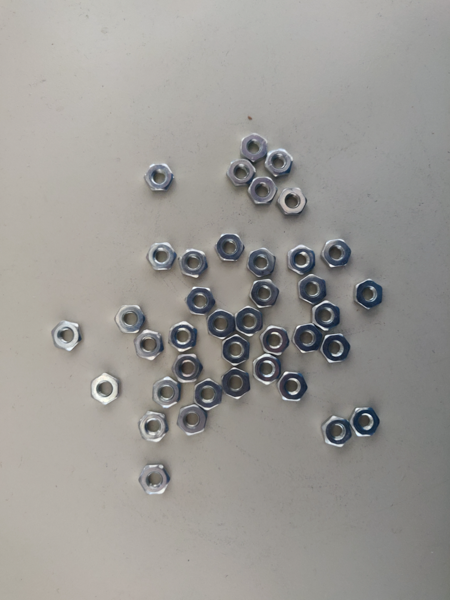nut: (192, 377, 223, 411), (350, 406, 382, 438), (321, 238, 353, 270), (139, 464, 171, 495), (323, 417, 354, 449), (252, 355, 283, 387), (277, 185, 308, 217), (53, 320, 83, 353), (261, 325, 291, 358), (176, 406, 207, 437), (91, 374, 121, 406), (115, 303, 145, 335), (135, 329, 165, 361), (169, 321, 199, 353), (173, 352, 203, 384), (152, 376, 182, 408), (222, 368, 252, 400), (294, 322, 324, 354), (311, 300, 341, 332), (321, 333, 351, 364), (279, 372, 309, 403), (356, 281, 386, 311), (139, 412, 169, 442), (226, 158, 256, 188), (239, 132, 269, 162), (265, 147, 295, 177), (248, 174, 278, 204), (148, 242, 178, 272), (215, 233, 245, 263), (180, 249, 210, 279), (186, 287, 216, 317), (297, 275, 327, 305), (250, 279, 280, 309), (234, 306, 264, 336), (208, 310, 238, 340), (145, 162, 174, 192), (247, 248, 277, 277), (289, 245, 318, 275), (222, 337, 251, 367)
